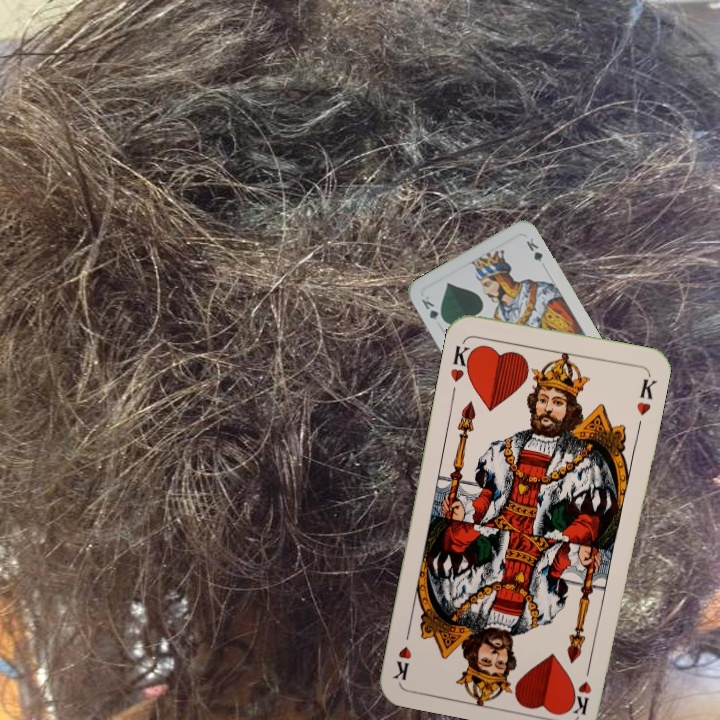GK: (417, 292, 448, 326)
HK: (570, 656, 594, 715), (446, 341, 477, 385)
